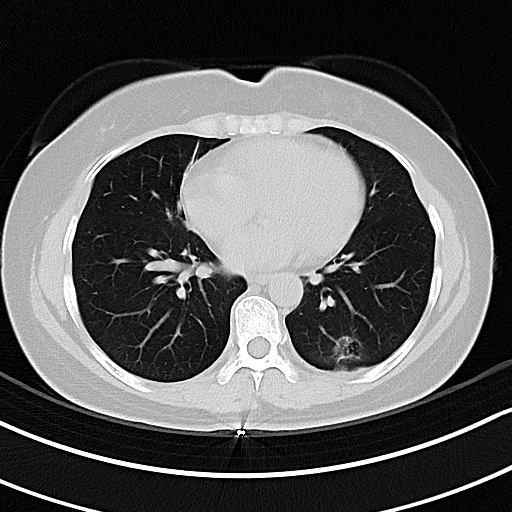nodule: (332, 333, 364, 362)
